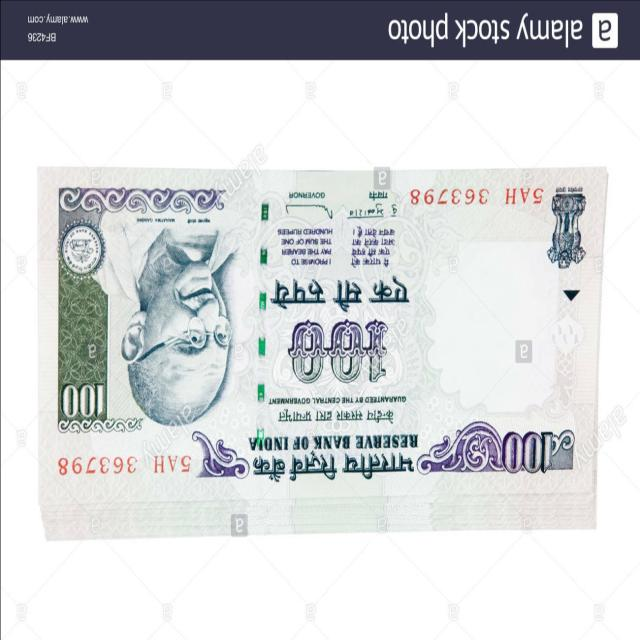100IndianRupees: (41, 166, 605, 530)
